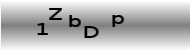1: (34, 22, 49, 36)
D: (83, 25, 99, 39)
Z: (48, 7, 63, 21)
b: (68, 14, 82, 28)
p: (111, 14, 125, 28)
